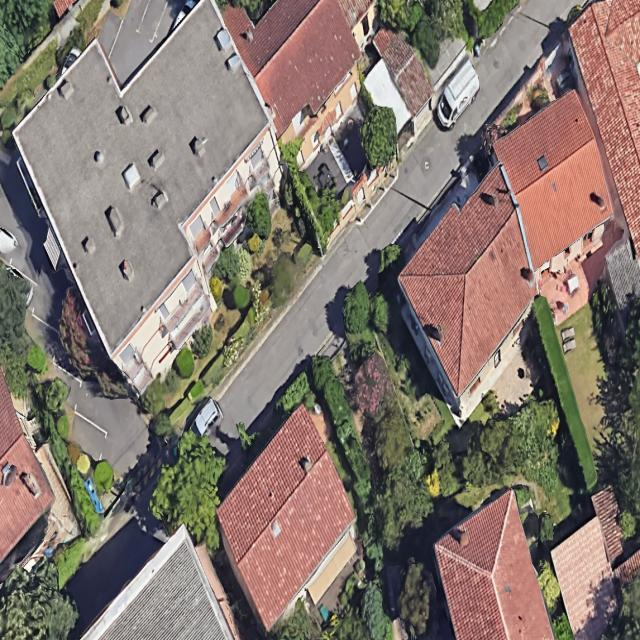immeuble: (0, 0, 354, 404), (220, 0, 392, 177)
maison: (183, 403, 384, 633), (380, 164, 554, 419), (476, 90, 634, 270), (421, 490, 553, 640)
